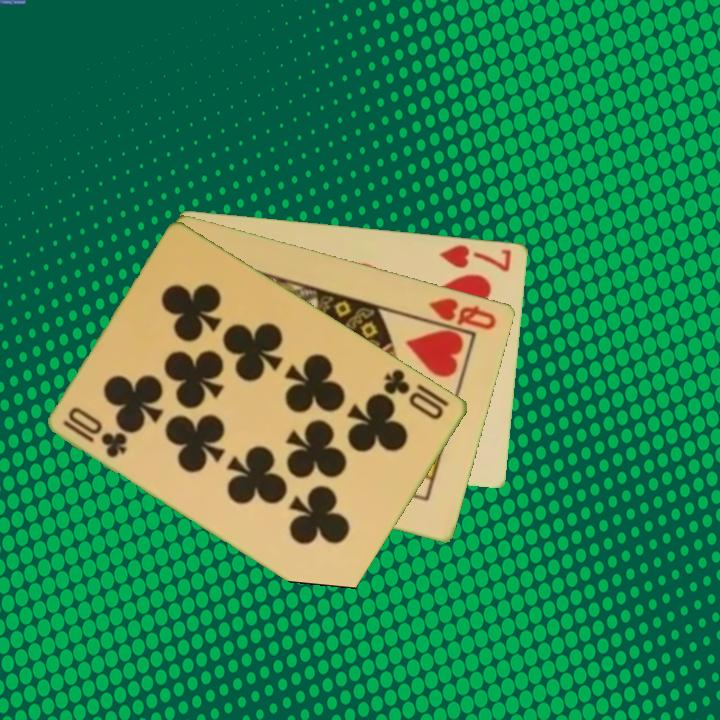10c: (60, 403, 131, 461), (380, 365, 447, 423)
7h: (435, 241, 515, 275)
Qh: (425, 294, 500, 333)
